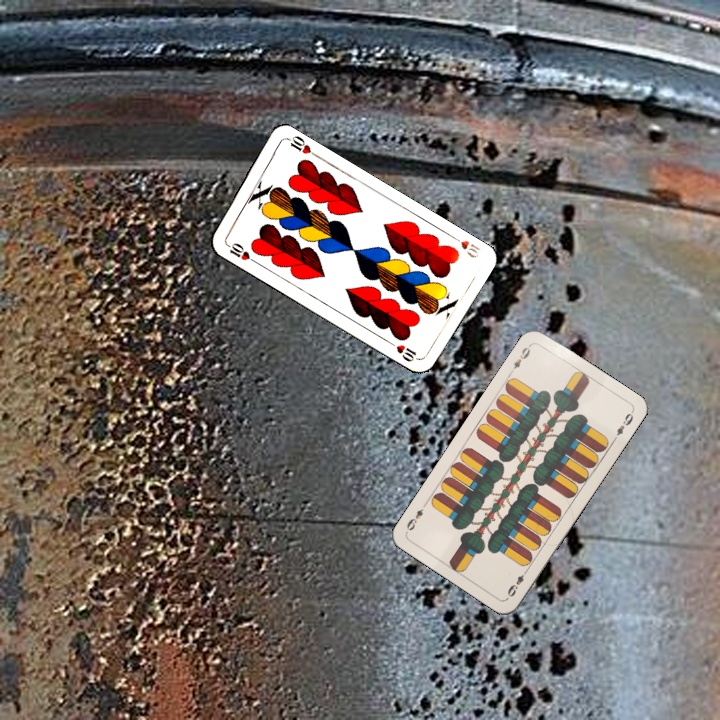E9: (503, 565, 531, 600), (506, 340, 533, 376)
H10: (447, 231, 483, 261), (221, 238, 258, 266)
